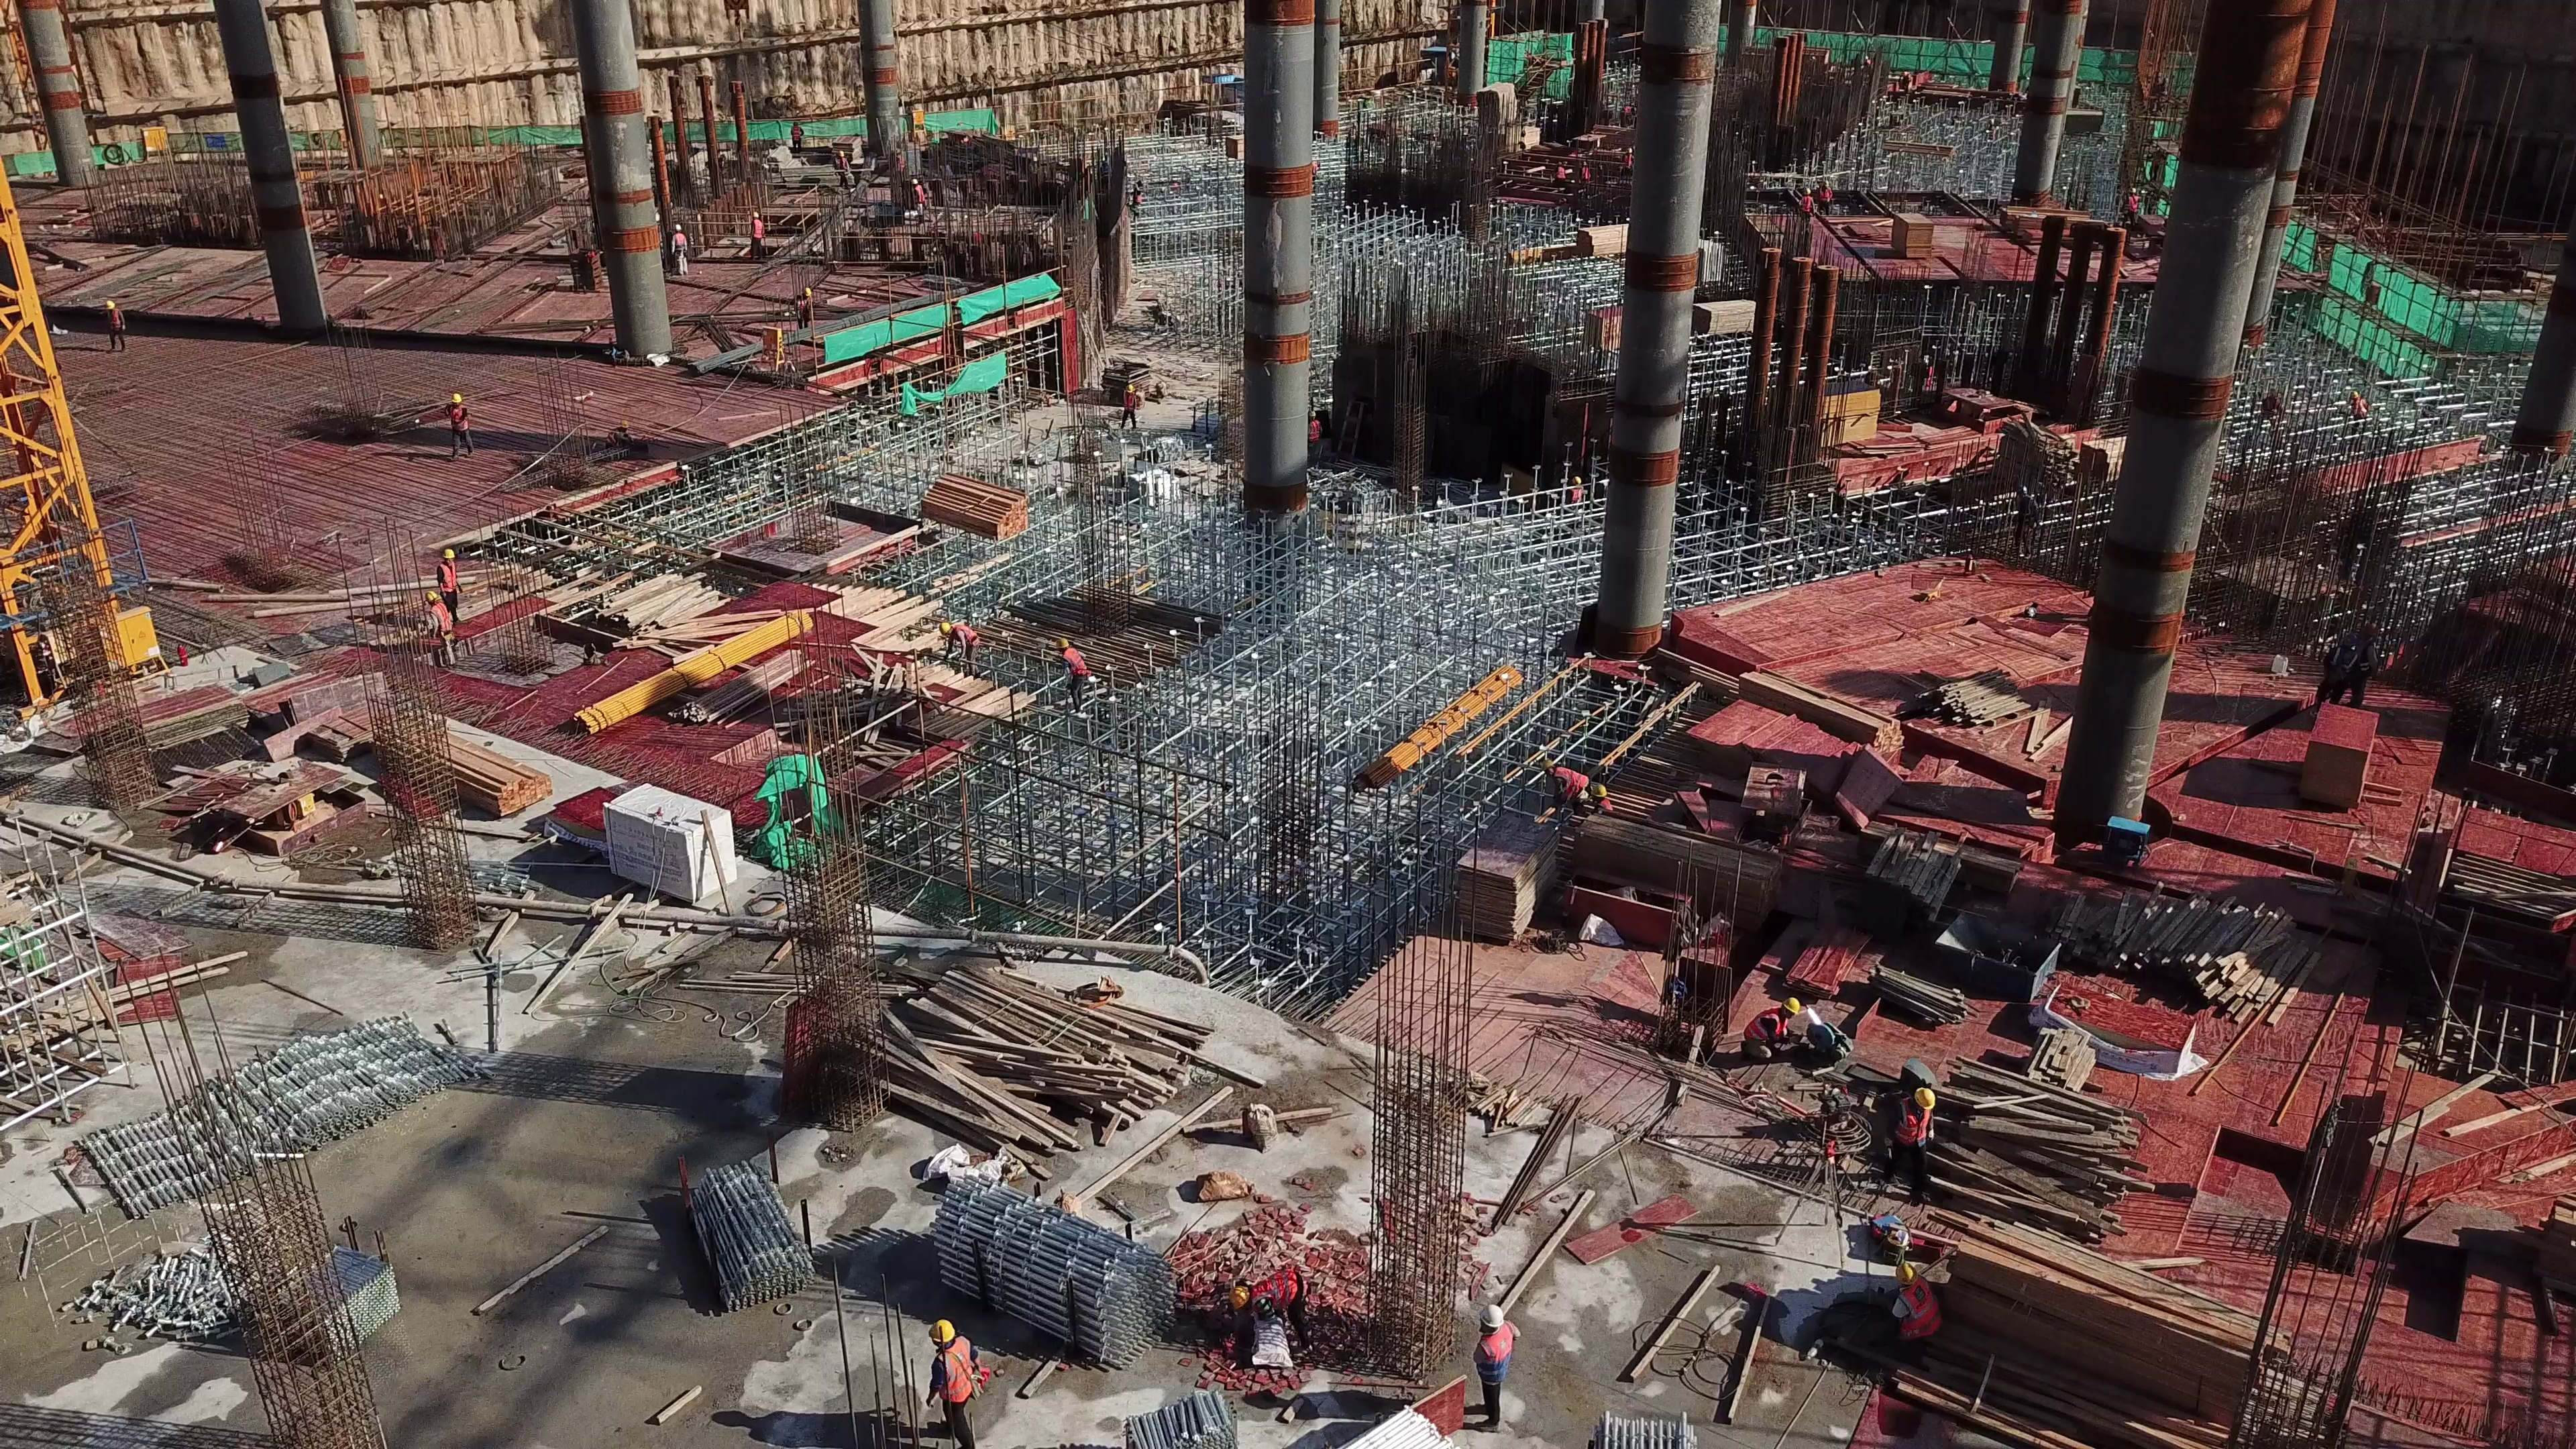board: (1452, 806, 1553, 926), (2302, 708, 2377, 825), (123, 685, 239, 745), (1886, 207, 1931, 264), (1587, 296, 1615, 354)
cutter: (1797, 1012, 1860, 1069)
ebox: (91, 602, 162, 698), (2100, 818, 2153, 868), (757, 325, 788, 376)
helmet: (926, 1314, 959, 1347), (1477, 1302, 1508, 1338), (1226, 1283, 1253, 1313), (1778, 994, 1803, 1019), (1896, 1266, 1920, 1287), (1914, 1087, 1936, 1112), (1586, 782, 1607, 800), (1054, 635, 1071, 649), (939, 622, 953, 635), (449, 393, 463, 405), (104, 300, 119, 311), (443, 545, 454, 559), (674, 225, 683, 230)
person: (1224, 1274, 1309, 1372), (921, 1317, 981, 1449), (1464, 1295, 1517, 1434), (1882, 1087, 1938, 1199), (1882, 1260, 1939, 1344), (1740, 992, 1800, 1061), (422, 590, 458, 674), (1536, 755, 1586, 814), (432, 394, 474, 458), (2314, 637, 2347, 713), (431, 541, 460, 619), (940, 618, 977, 675), (1055, 636, 1083, 709), (2351, 624, 2372, 704), (103, 297, 125, 354), (908, 176, 930, 225), (669, 223, 690, 274), (1118, 383, 1141, 430), (749, 213, 769, 262), (794, 287, 810, 330), (830, 150, 848, 185), (787, 121, 806, 150)
scaffold: (50, 1016, 478, 1213), (929, 1180, 1163, 1362), (57, 1238, 400, 1345), (678, 1168, 803, 1320), (1111, 1385, 1233, 1449)
vest: (936, 1340, 981, 1405), (1898, 1286, 1947, 1344), (1889, 1095, 1930, 1148), (1737, 1008, 1788, 1049), (1479, 1330, 1513, 1385), (1256, 1273, 1304, 1309), (1557, 767, 1589, 795), (957, 621, 987, 648), (428, 604, 450, 635), (1062, 653, 1085, 680), (437, 565, 455, 590)
wood: (1957, 1233, 2247, 1449), (882, 963, 1182, 1166), (2086, 883, 2324, 1012), (1955, 1075, 2140, 1230), (381, 720, 551, 823), (1931, 668, 2077, 765), (1747, 671, 1910, 756), (587, 574, 724, 659), (1853, 835, 1960, 926), (914, 467, 1035, 542), (1999, 203, 2087, 237), (2075, 433, 2124, 490), (1576, 221, 1625, 258)
